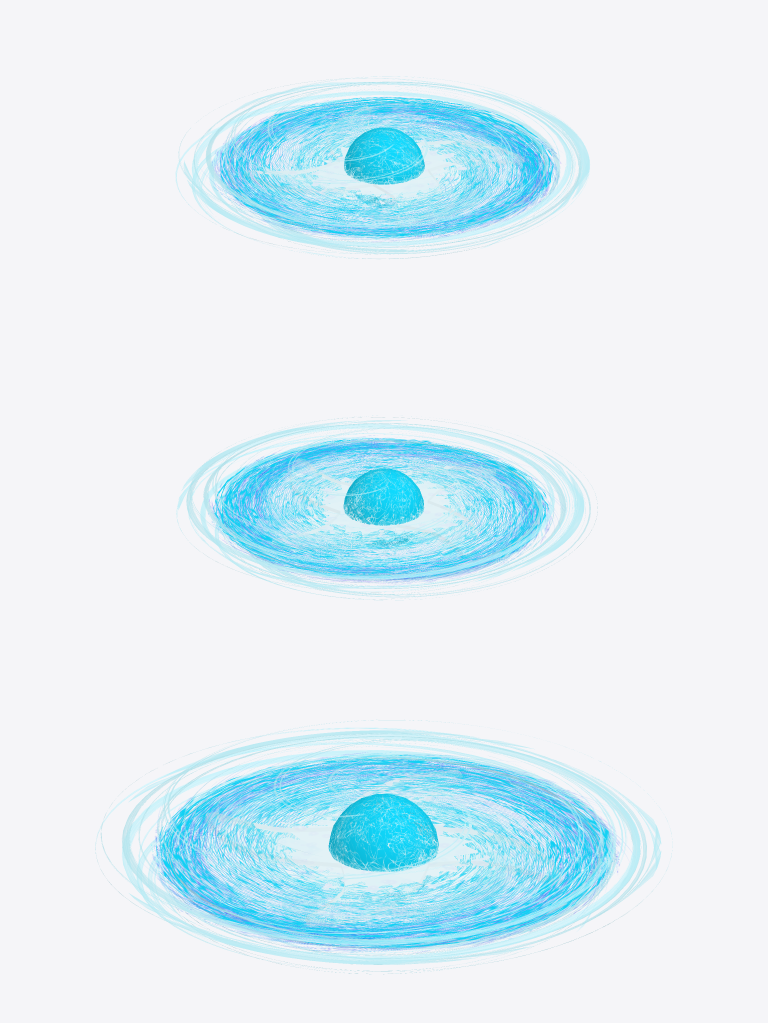
The picture shows the model from 3 angles, top to bottom: view 1: azimuth 30°, elevation 25°; view 2: azimuth 150°, elevation 25°; view 3: azimuth 270°, elevation 25°; orthographic projection. The views are drawn at different scales.
Visible parts, largest first — view 1: Tube_2, Tube 1_10, Plane_4, Radial_8, Plane 2_7, Sphere UV 2_13, Sphere UV 1_12; view 2: Tube_2, Tube 1_10, Plane_4, Radial_8, Plane 2_7, Sphere UV 2_13, Sphere UV 1_12; view 3: Tube_2, Tube 1_10, Plane_4, Radial_8, Plane 2_7, Sphere UV 2_13, Sphere UV 1_12, Plane_5.
Part boxes in pixels (x1,y1,x2,y2): Tube_2: [175, 76, 589, 258]; Tube 1_10: [220, 97, 554, 238]; Plane_4: [249, 113, 520, 223]; Radial_8: [244, 106, 523, 228]; Plane 2_7: [212, 101, 558, 239]; Sphere UV 2_13: [344, 127, 424, 207]; Sphere UV 1_12: [346, 129, 421, 200]; Tube_2: [176, 415, 597, 600]; Tube 1_10: [213, 438, 548, 579]; Plane_4: [256, 452, 515, 563]; Radial_8: [272, 458, 495, 558]; Plane 2_7: [212, 438, 550, 581]; Sphere UV 2_13: [343, 468, 423, 548]; Sphere UV 1_12: [345, 470, 421, 545]; Tube_2: [95, 719, 672, 974]; Tube 1_10: [156, 754, 612, 947]; Plane_4: [198, 771, 566, 922]; Radial_8: [205, 769, 562, 927]; Plane 2_7: [151, 753, 619, 952]; Sphere UV 2_13: [328, 794, 438, 903]; Sphere UV 1_12: [331, 797, 436, 870]; Plane_5: [181, 773, 596, 938].
Bounding box in the file's own units: 1.98 × 0.3088 × 1.98.
10 materials, 9 textured.
